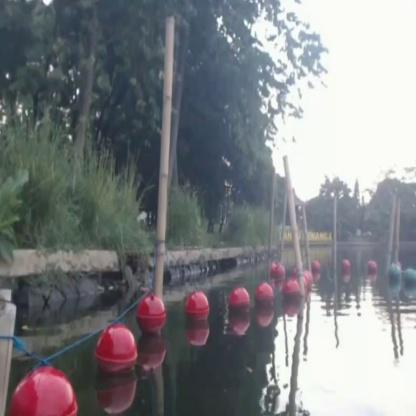green_buoy: (388, 260, 400, 283), (403, 269, 415, 288)
red_buoy: (18, 372, 75, 414), (99, 327, 133, 376), (139, 296, 163, 332), (186, 290, 206, 328), (230, 288, 250, 320), (256, 285, 271, 318), (284, 284, 298, 306), (276, 265, 287, 284), (366, 260, 377, 276), (341, 258, 352, 274), (312, 259, 320, 275)
